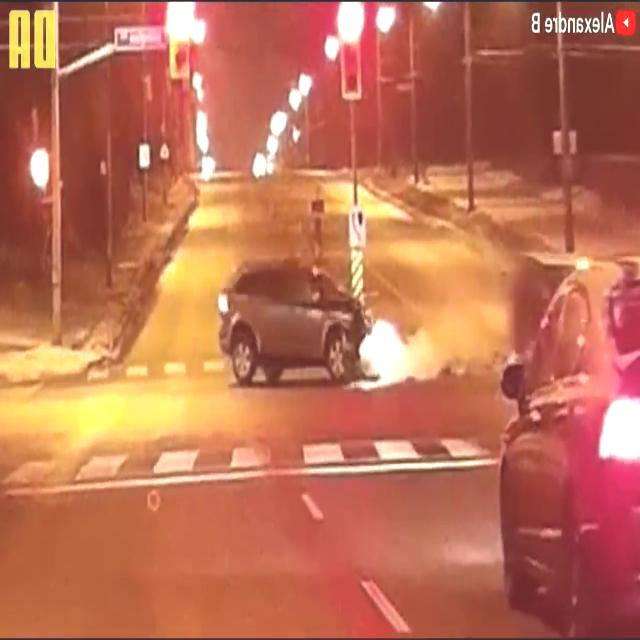accident: (217, 256, 576, 388)
